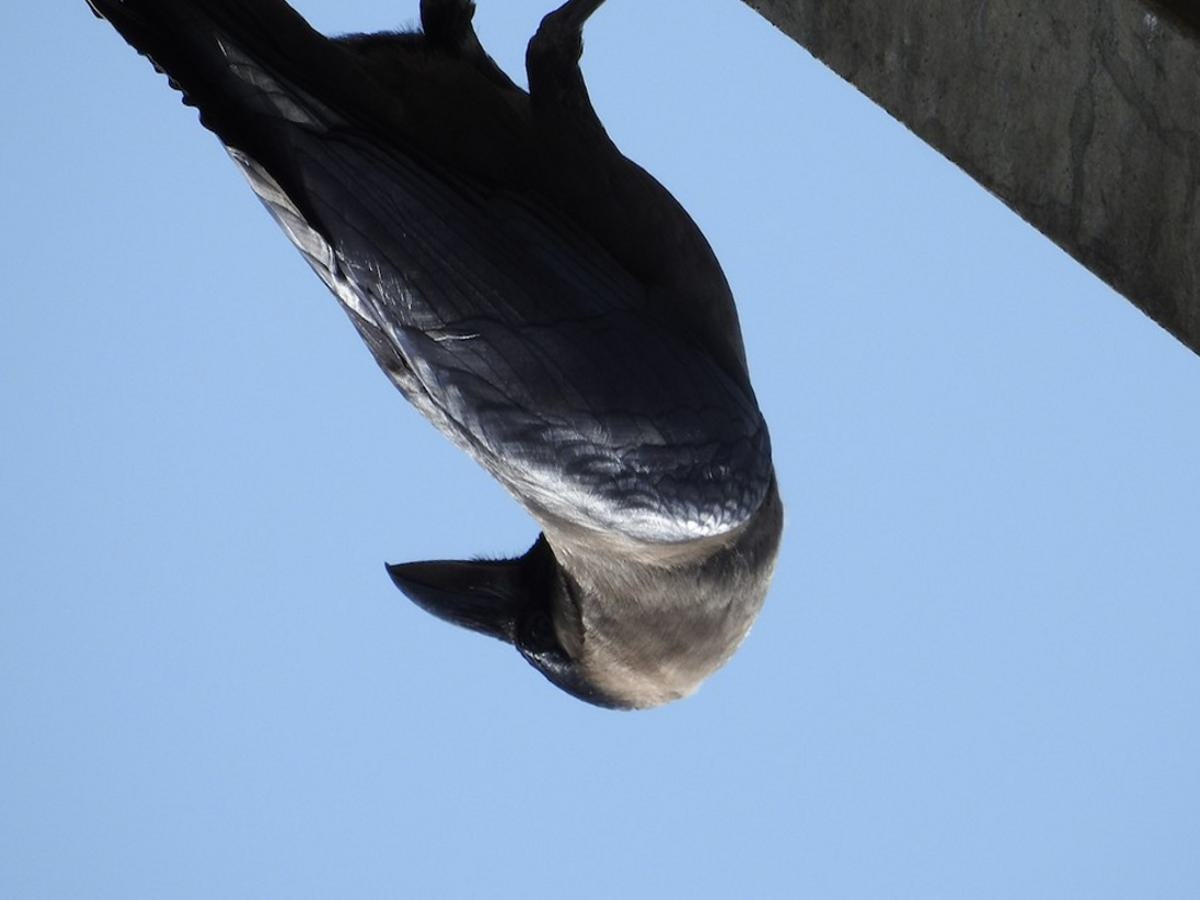crow: (94, 1, 790, 717)
